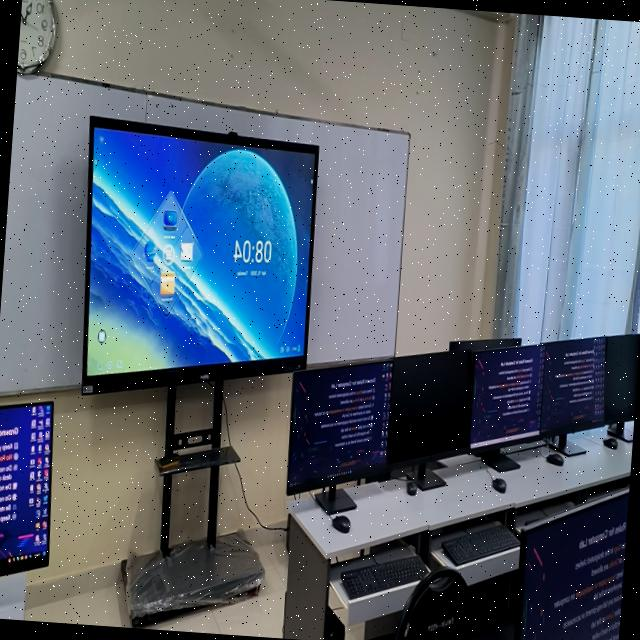Chair: (394, 567, 470, 640)
Digital board: (81, 116, 318, 411)
Keyboard: (340, 554, 427, 599), (441, 521, 518, 566)
Monitor: (515, 487, 629, 640), (286, 360, 393, 493), (388, 350, 472, 464), (0, 402, 53, 575), (471, 346, 544, 447), (539, 337, 605, 435), (604, 333, 640, 423)
Mouse: (332, 514, 350, 533), (546, 452, 563, 465), (492, 478, 506, 492), (602, 437, 618, 449), (406, 480, 417, 495)
